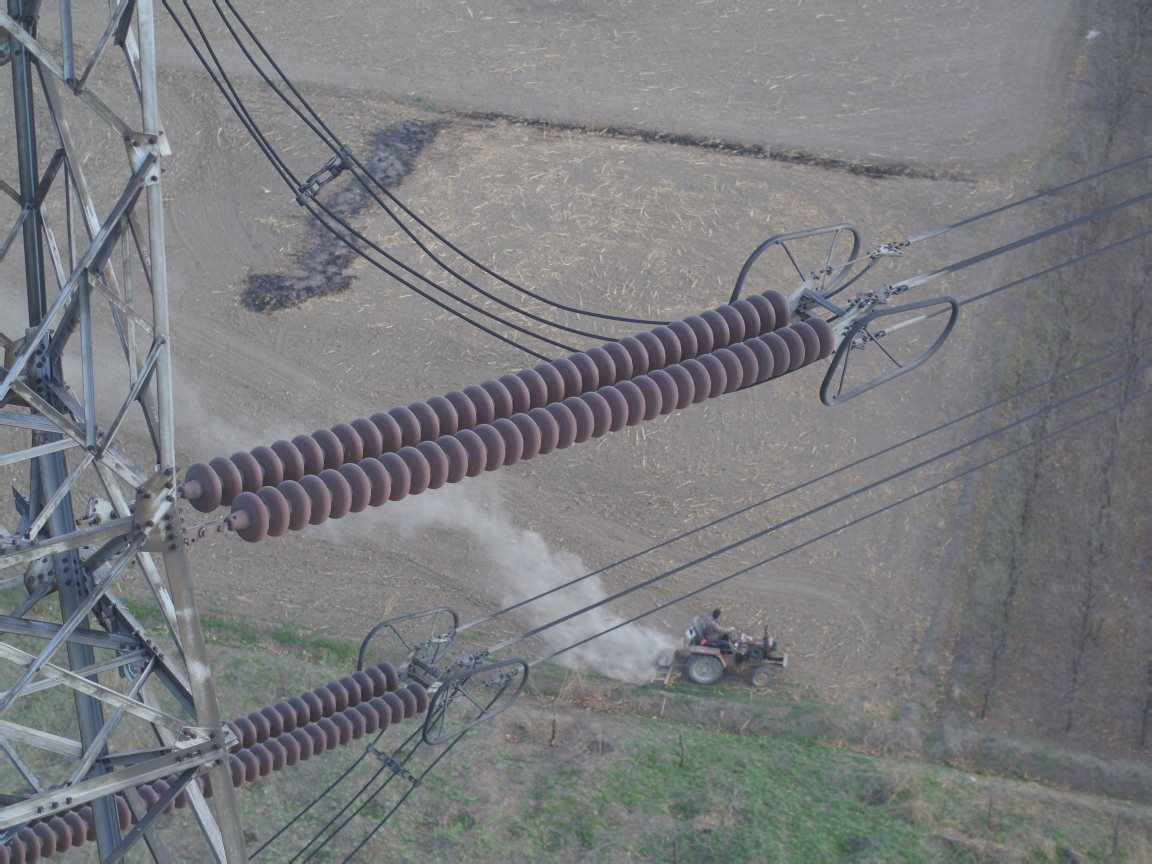insulator: (175, 283, 846, 546), (228, 650, 443, 783)
